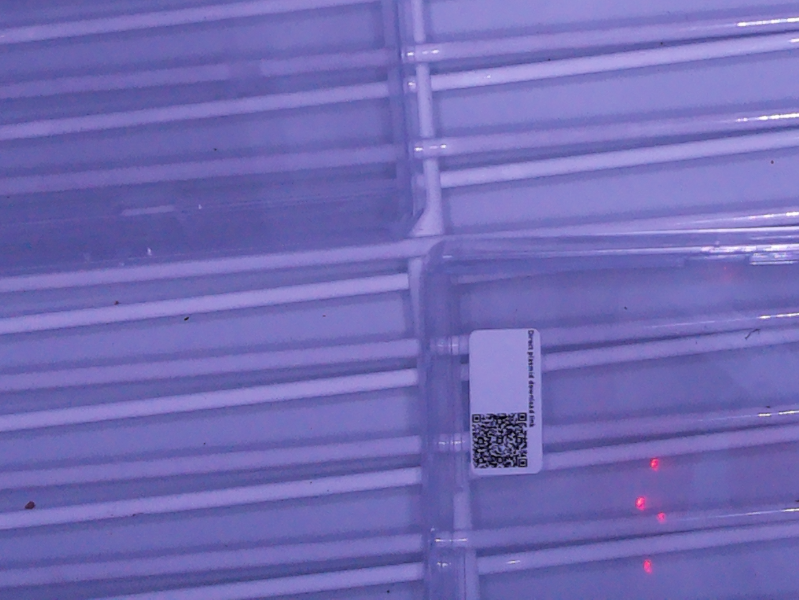plate: (419, 237, 799, 600), (1, 1, 429, 277)
